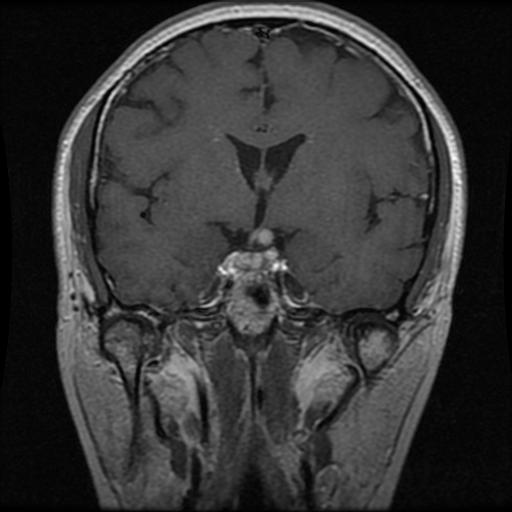Pituirity_tumour: (233, 227, 277, 266)
